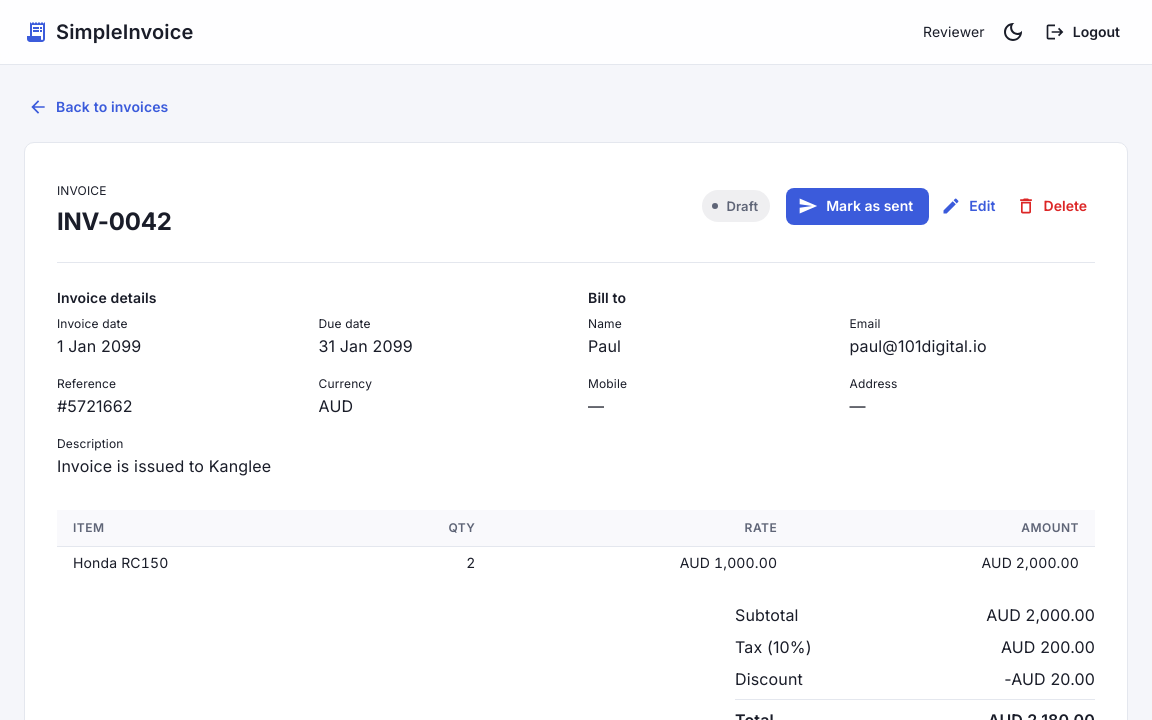
Test: Deleting a draft › asks for confirmation, deletes and returns to the list
The width and height of the screenshot is (1152, 720).
Step 1. Click the button "Delete" → (1053, 206), box x1=1012 y1=188 x2=1095 y2=225
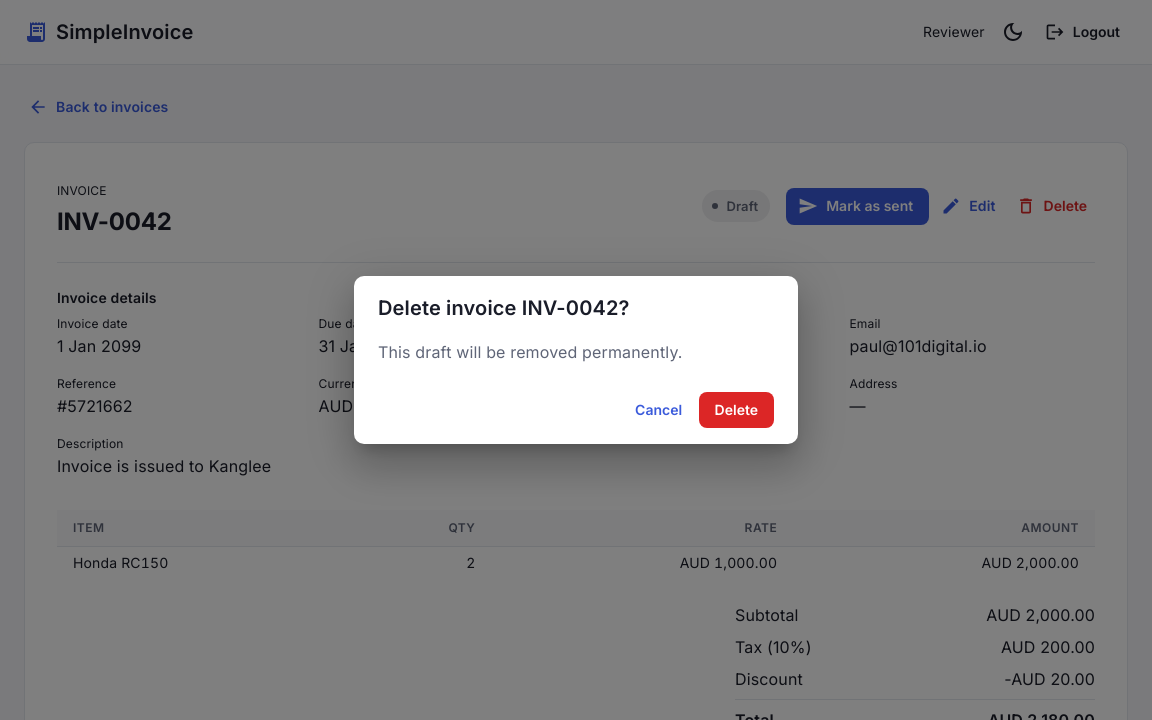
Expected: the heading "Delete invoice INV-0042?" is shown, x1=378 y1=296 x2=630 y2=320
# cancelling does nothing
Step 2. Click the button "Cancel" → (659, 410), box x1=627 y1=392 x2=691 y2=428
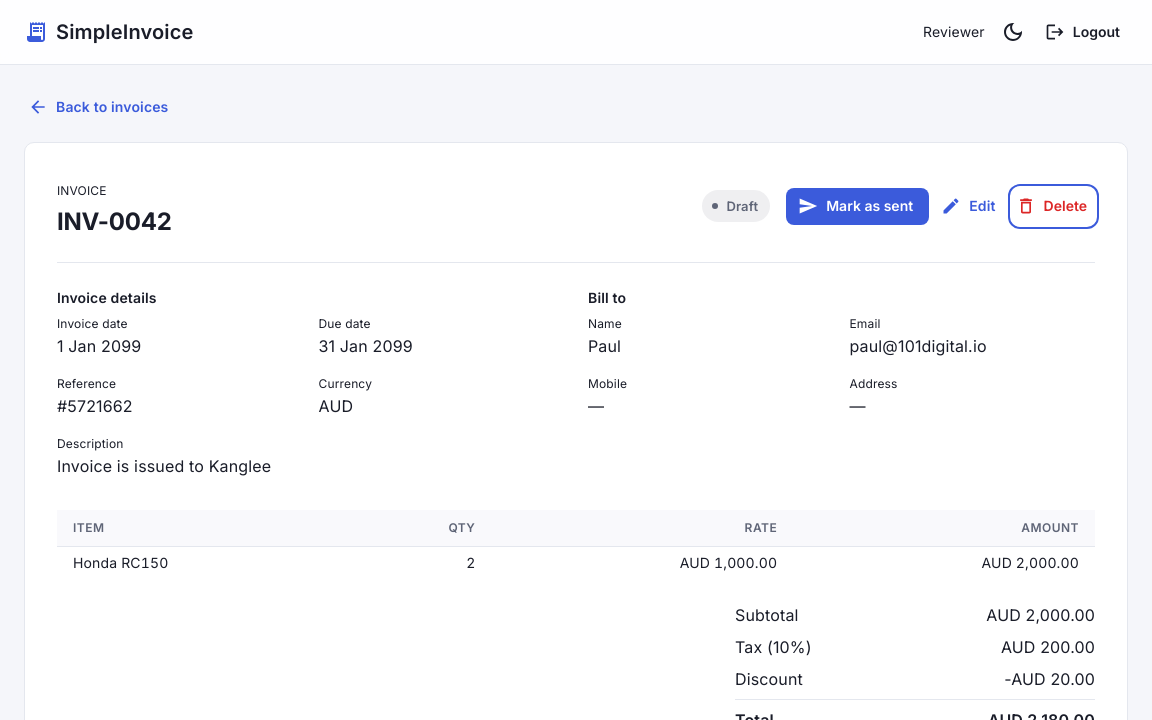
Expected: the dialog is gone
Step 3. Click the button "Delete" → (1053, 206), box x1=1012 y1=188 x2=1095 y2=225
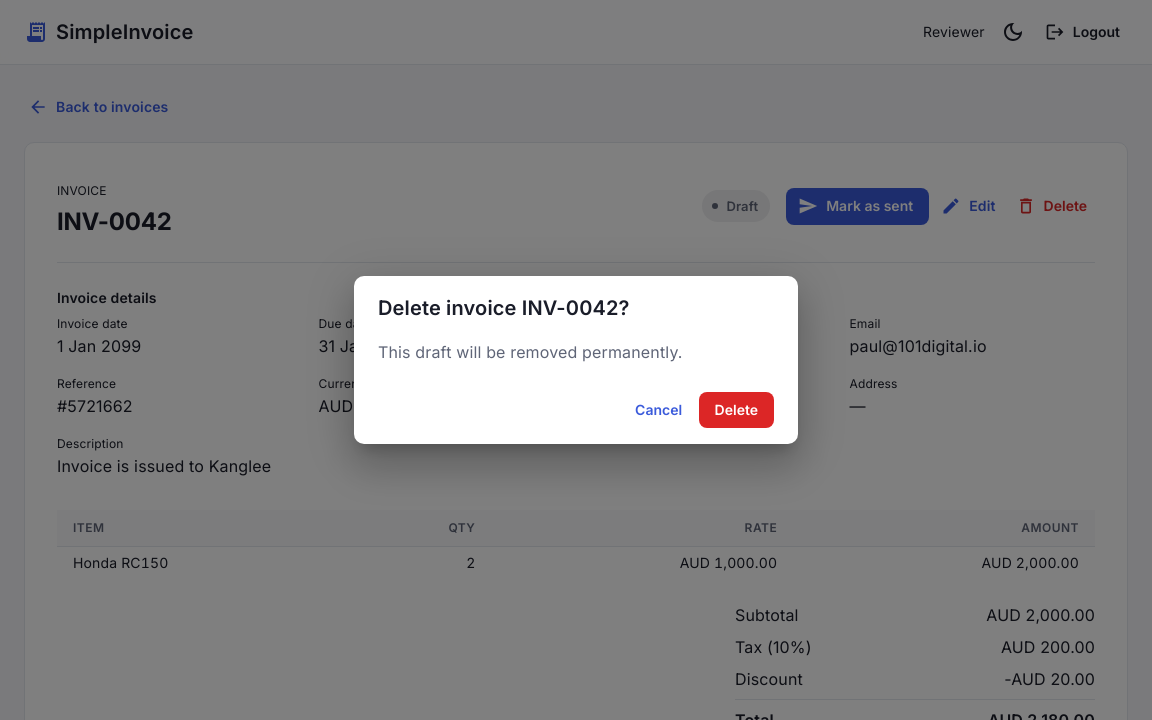
Step 4. Click the button "Delete" → (736, 410), box x1=699 y1=392 x2=774 y2=428
(page scrolled)
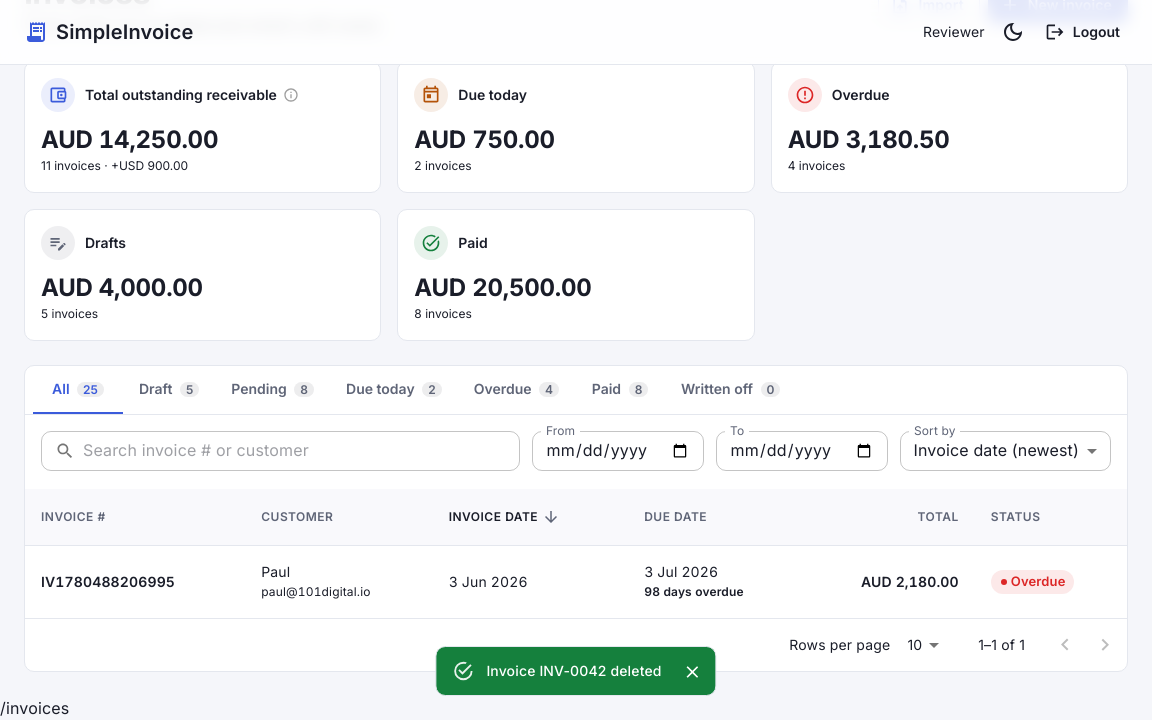
Expected: the text "Invoice INV-0042 deleted" is shown, x1=486 y1=662 x2=662 y2=679
Expected: the text with test id "location" reads "/invoices", x1=0 y1=698 x2=69 y2=718
